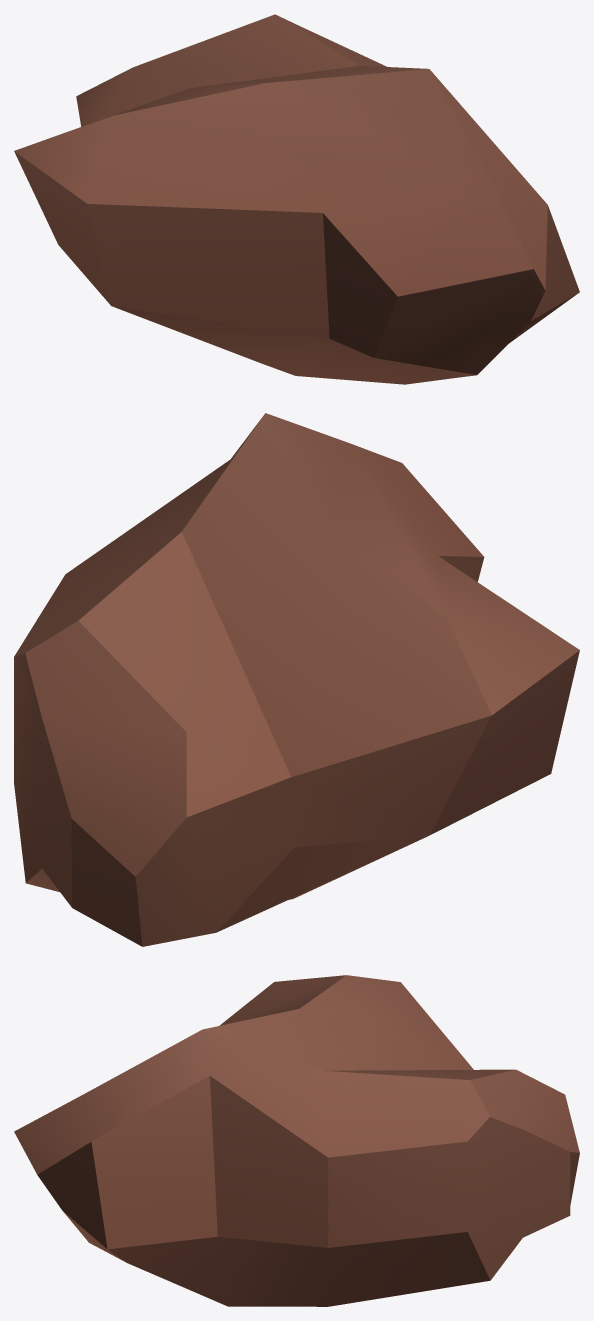
Rendered from Prop_stone_02.fbx.
3 renders of one model, top to bottom at view 1: azimuth 30°, elevation 25°; view 2: azimuth 150°, elevation 25°; view 3: azimuth 270°, elevation 25°, orthographic. The views are drawn at different scales.
Parts seen in each view (by area): view 1: Stone_2; view 2: Stone_2; view 3: Stone_2.
Boxes of the visible parts, box(x1,y1,x2,y2) form: Stone_2: box(14, 14, 579, 384); Stone_2: box(14, 413, 579, 946); Stone_2: box(14, 975, 579, 1306).
Bounding box in the file's own units: 114 × 88.76 × 162.
